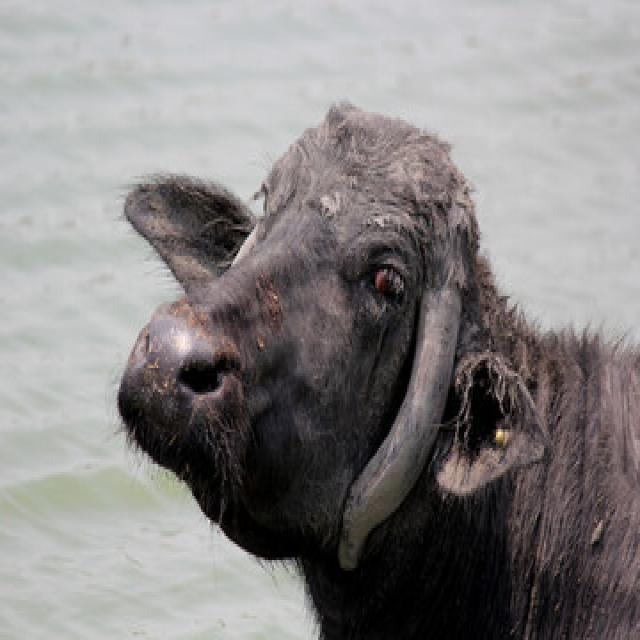Buffalo: (112, 96, 638, 637)
